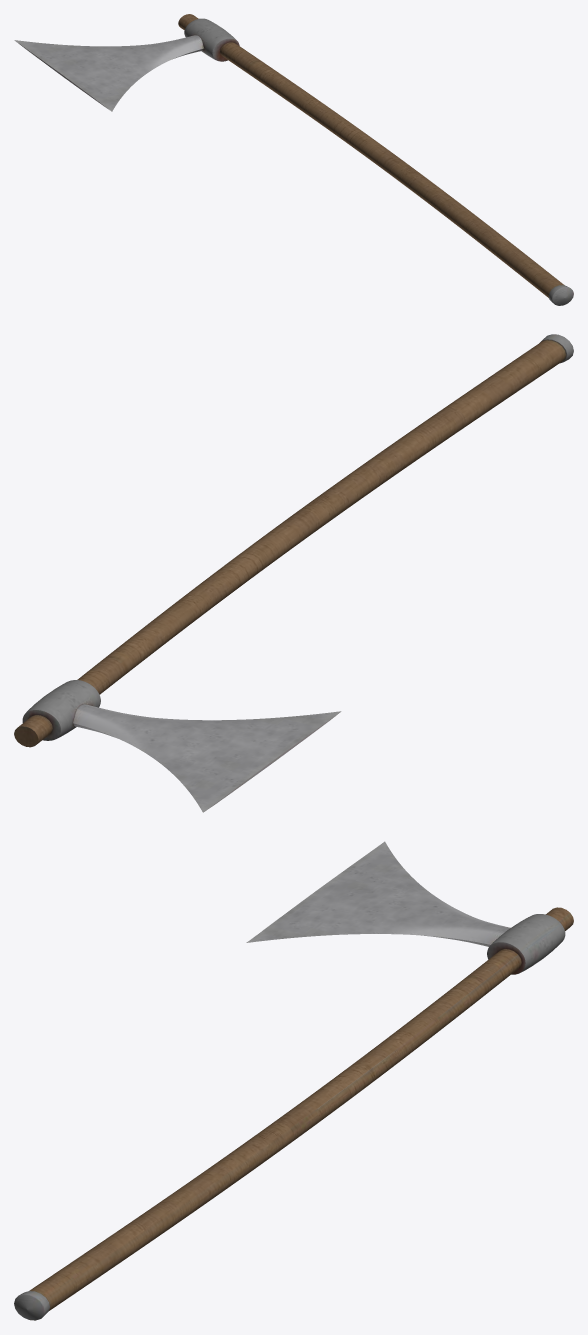
File: broad_axe.glb
3 views of the same model, one above another, from view 1: azimuth 30°, elevation 25°; view 2: azimuth 150°, elevation 25°; view 3: azimuth 330°, elevation 25° (orthographic). The views are drawn at different scales.
Parts seen in each view (by area): view 1: broad_axe; view 2: broad_axe; view 3: broad_axe.
Boxes of the visible parts, box(x1,y1,x2,y2) form: broad_axe: box(14, 14, 573, 305); broad_axe: box(14, 334, 573, 812); broad_axe: box(14, 841, 573, 1320).
Bounding box in the file's own units: 0.267 × 0.0378 × 1.12.
1 material, 1 textured.
